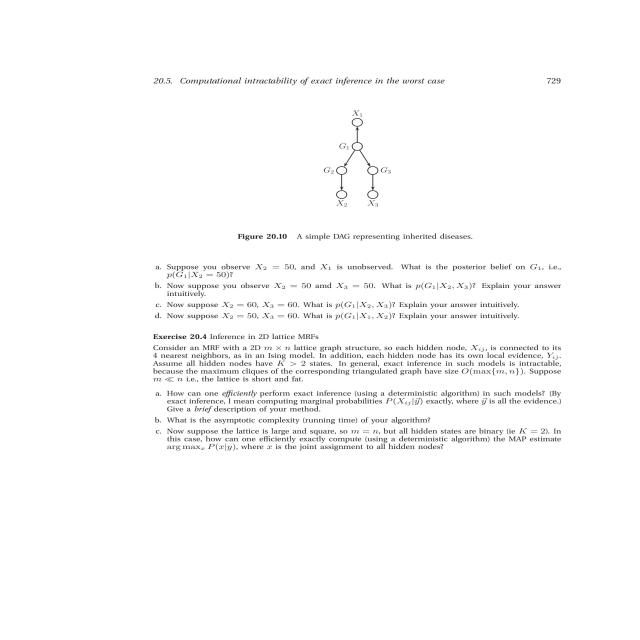diagram: (168, 100, 508, 245)
